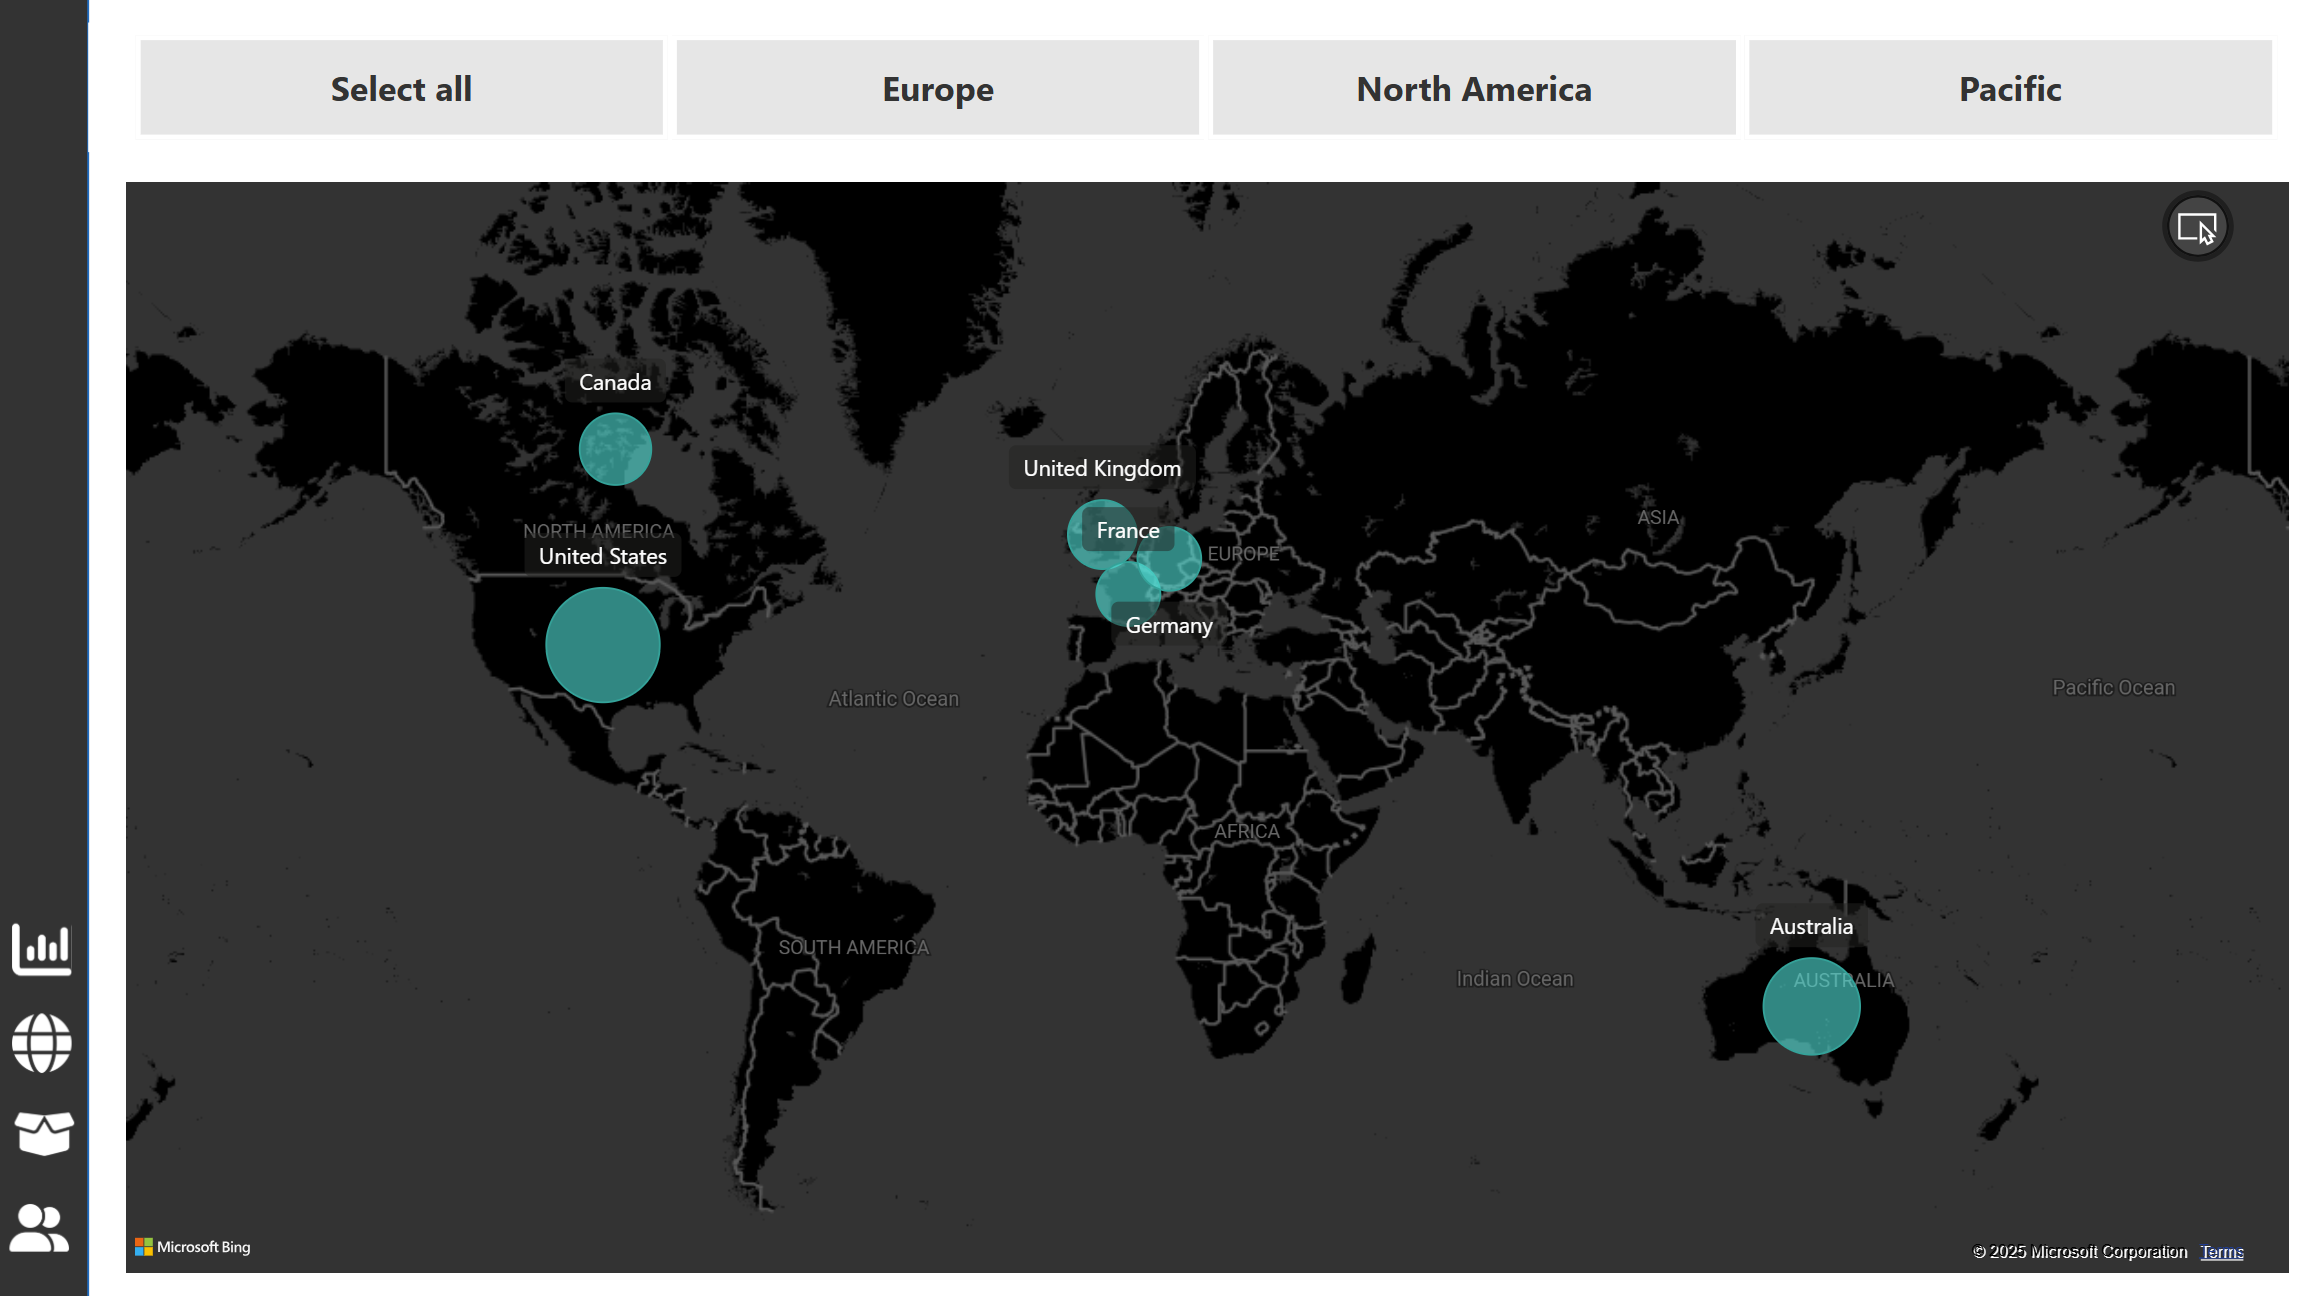

The dashboard page shown, as its layout file describes it:
{"tool":"powerbi","page":{"name":"Map","canvas":[1280,720],"ordinal":1},"visuals":[{"type":"shape","box":[0,0,53.3,720],"z":0},{"type":"map","fields":{"Category":["Territory Lookup.Country"],"Size":["Measure Table.Total Orders"]},"box":[68.1,98.6,1198.6,608.7],"z":1000},{"type":"actionButton","box":[6.6,504.8,43.8,40.8],"z":1000,"group":"g1"},{"type":"slicer","fields":{"Values":["Territory Lookup.Continent"]},"box":[53.5,15.7,1226.5,71.3],"z":2000},{"type":"actionButton","box":[6.6,555.6,43.8,40.8],"z":2000,"group":"g1"},{"type":"group","id":"g1","title":"Navigation Buttons","box":[5.1,504.8,46.2,193.1],"z":3000},{"type":"actionButton","box":[7.4,606.3,43.8,40.8],"z":3000,"group":"g1"},{"type":"actionButton","box":[5.1,657.1,43.8,40.8],"z":4000,"group":"g1"}]}

Visuals, with their boxes on the page's 1280x720 design canvas (x1, y1, x2, y2). These are canvas units, not pixel positions in the 2314x1296 screenshot, which may show the page scaled, cropped or inside an application window:
shape: <box>0,0,53,720</box>
map - Territory Lookup.Country x Measure Table.Total Orders: <box>68,99,1267,707</box>
actionButton: <box>7,505,50,546</box>
slicer - Territory Lookup.Continent: <box>54,16,1280,87</box>
actionButton: <box>7,556,50,596</box>
"Navigation Buttons" group: <box>5,505,51,698</box>
actionButton: <box>7,606,51,647</box>
actionButton: <box>5,657,49,698</box>
